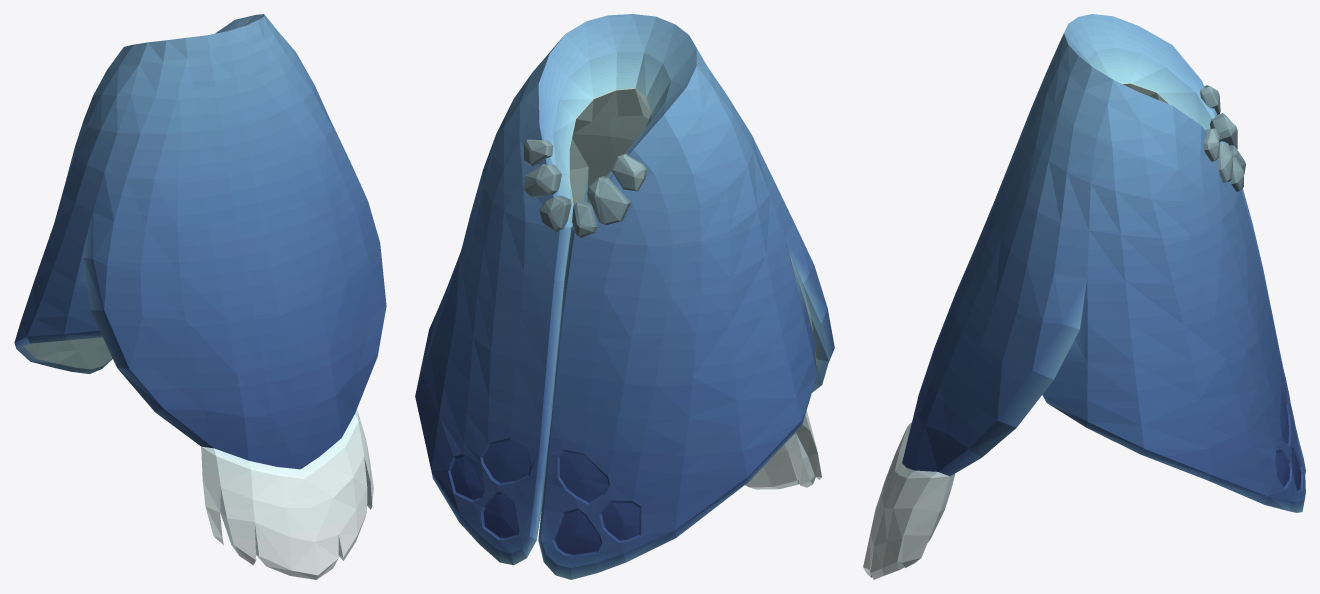
File: CharSkyKid_Wing_AP08Turtle_01.glb
The picture shows the model from 3 angles, left to right: view 1: azimuth 30°, elevation 25°; view 2: azimuth 150°, elevation 25°; view 3: azimuth 270°, elevation 25°; orthographic projection. The views are drawn at different scales.
Visible parts, largest first — view 1: CharSkyKid_Wing_AP08Turtle_01; view 2: CharSkyKid_Wing_AP08Turtle_01; view 3: CharSkyKid_Wing_AP08Turtle_01.
Boxes of the visible parts, box(x1,y1,x2,y2) form: CharSkyKid_Wing_AP08Turtle_01: box(14, 14, 386, 579); CharSkyKid_Wing_AP08Turtle_01: box(415, 14, 834, 579); CharSkyKid_Wing_AP08Turtle_01: box(863, 14, 1305, 579).
Bounding box in the file's own units: 5.72 × 8.01 × 5.95.
1 material, 1 textured.
